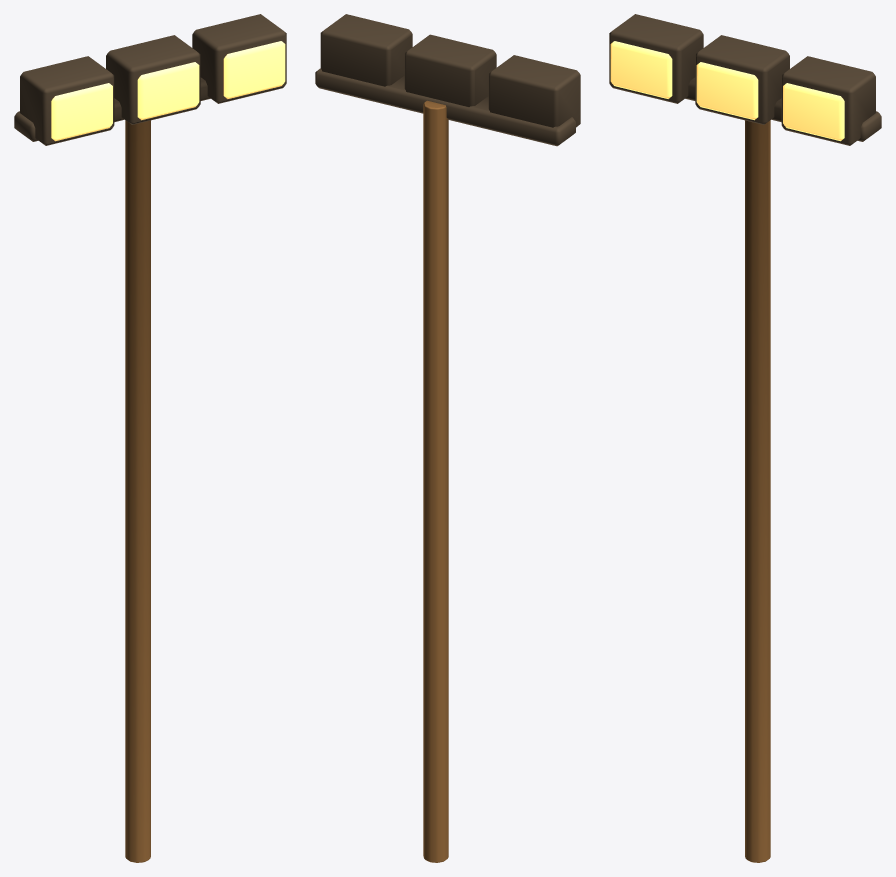
Rendered from speedway_county_floodlight.glb.
The picture shows the model from 3 angles, left to right: view 1: azimuth 30°, elevation 25°; view 2: azimuth 150°, elevation 25°; view 3: azimuth 330°, elevation 25°; orthographic projection. The views are drawn at different scales.
Visible parts, largest first — view 1: Floodlight mast; view 2: Floodlight mast; view 3: Floodlight mast.
Part boxes in pixels (x1,y1,x2,y2): Floodlight mast: (14, 14, 286, 862); Floodlight mast: (315, 14, 580, 862); Floodlight mast: (609, 14, 881, 862).
Bounding box in the file's own units: 1.64 × 5.08 × 0.4382.
